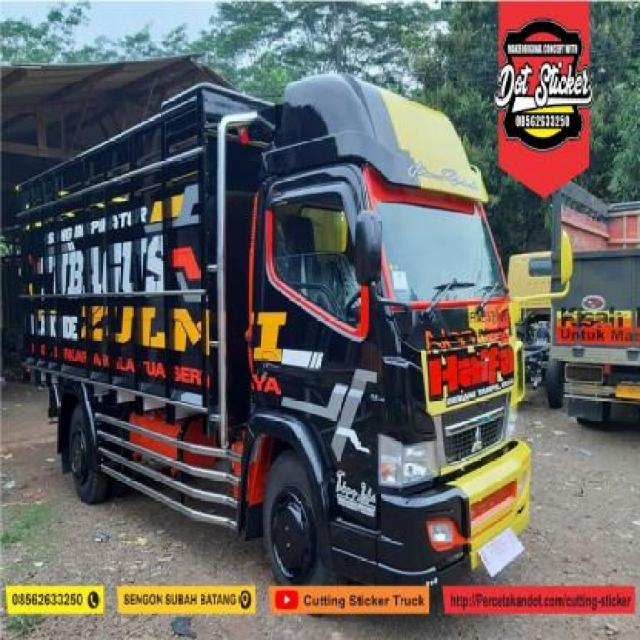truck: (20, 82, 569, 589)
